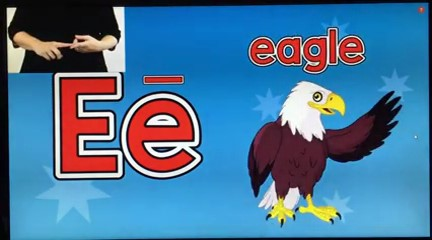E: (35, 33, 97, 66)
